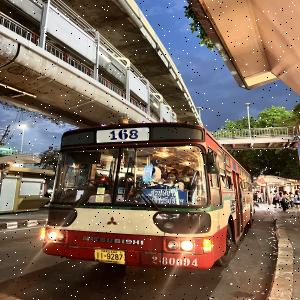BMTA-bus: (41, 123, 255, 270)
Bus Line Number: (94, 128, 152, 141)
Bus Side Number: (145, 254, 201, 269)
Destination Sign: (140, 189, 188, 204)
